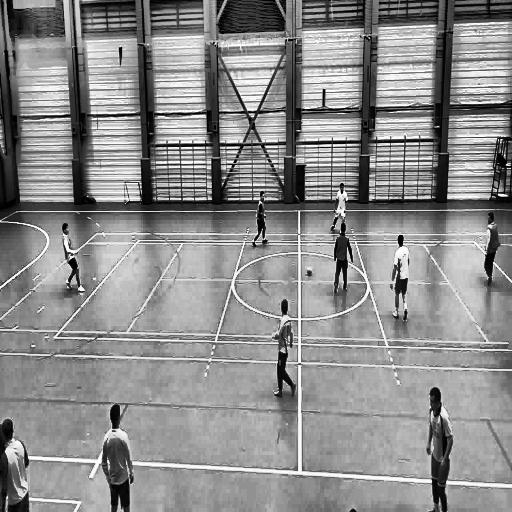ball: (305, 264, 314, 278)
player: (101, 403, 135, 507), (427, 387, 454, 512), (272, 298, 298, 398), (390, 232, 411, 323), (61, 220, 86, 293), (332, 223, 354, 297), (483, 210, 501, 288), (330, 180, 348, 235), (252, 190, 269, 248)
